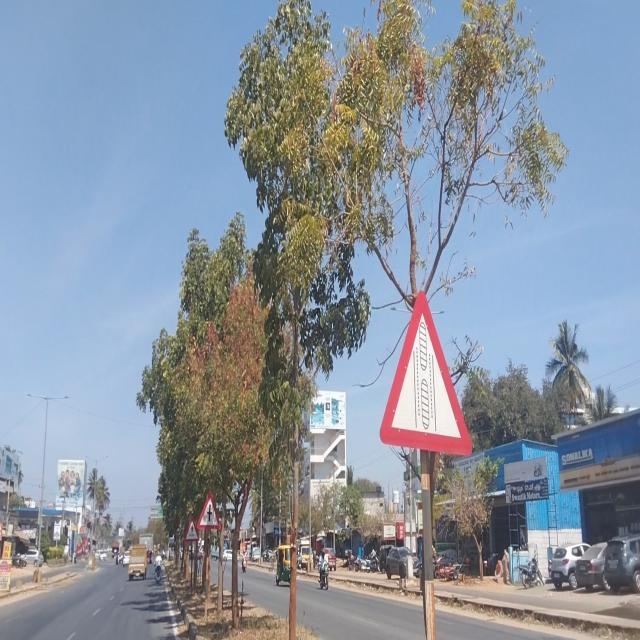bien_nguy_hiem: (380, 290, 472, 458), (197, 489, 220, 532), (185, 515, 199, 544)
